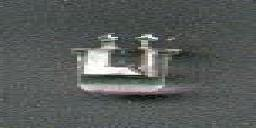LED: (69, 31, 187, 98)
